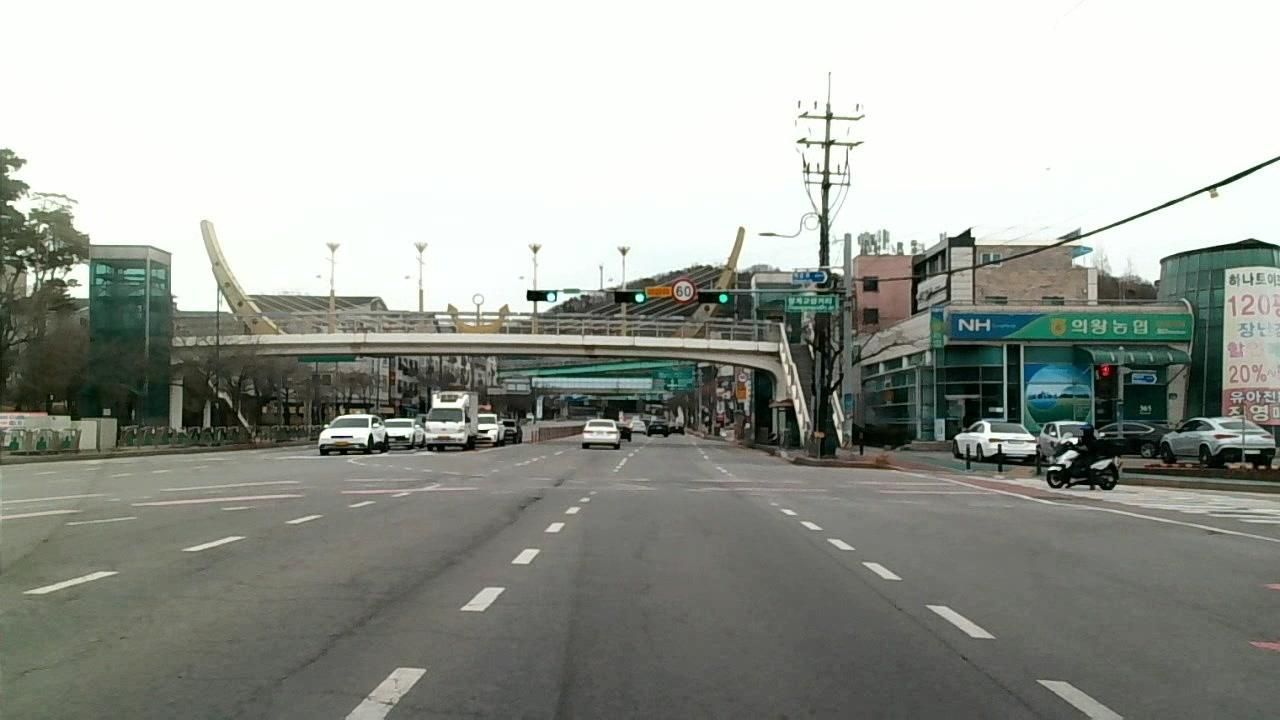vcrack: (871, 586, 1037, 708), (255, 629, 392, 720), (489, 487, 541, 529)
